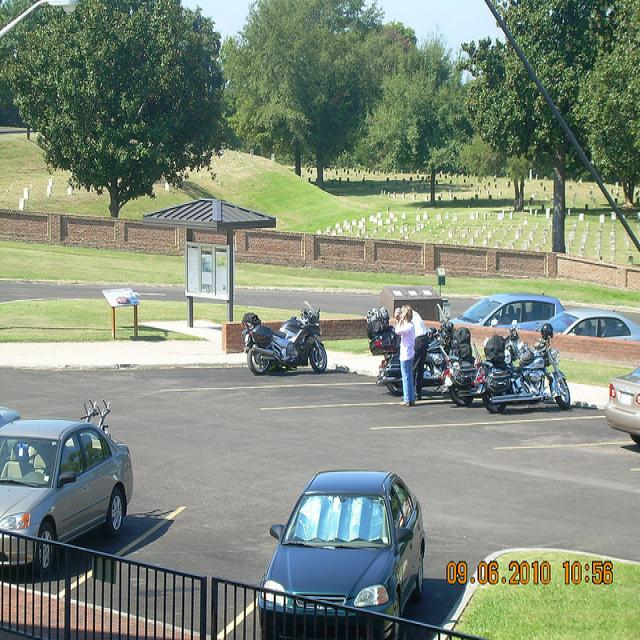motor: (365, 306, 460, 397), (241, 306, 327, 375), (486, 347, 572, 412), (440, 352, 498, 408)
